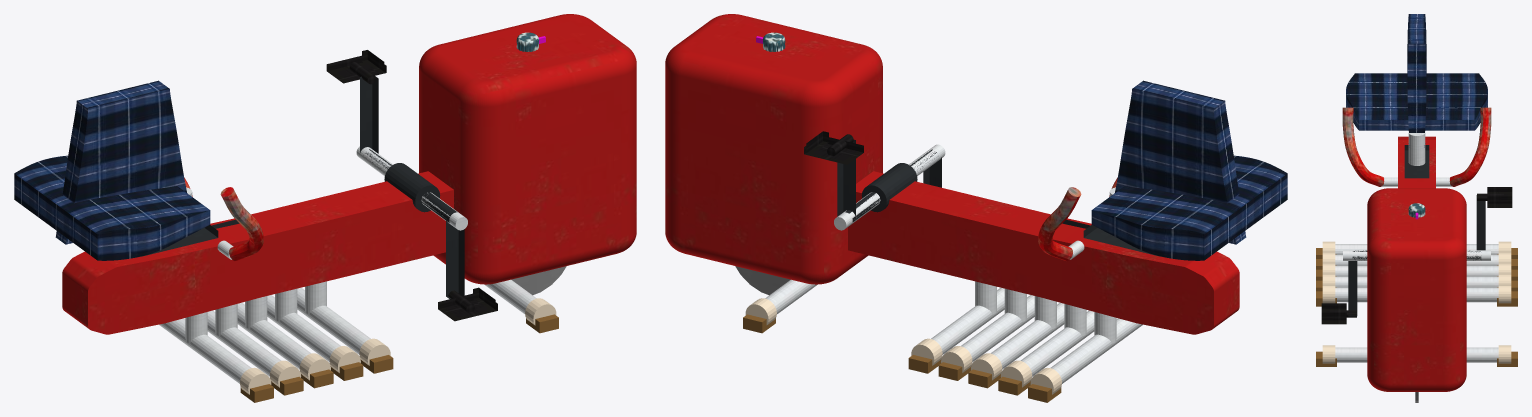
File: Sports_Exercise_bike__0062.glb
3 views of the same model, side by side, from view 1: azimuth 30°, elevation 25°; view 2: azimuth 150°, elevation 25°; view 3: azimuth 270°, elevation 25° (orthographic). The views are drawn at different scales.
Parts seen in each view (by area): view 1: body::resistance_housing, body::body_beam, seat_carriage::backrest_pad, seat_carriage::bucket_seat, crank::crank_body, stabilizer_foot_5::stabilizer_tube, stabilizer_foot_4::stabilizer_tube, stabilizer_foot_2::stabilizer_tube, stabilizer_foot_1::stabilizer_tube, stabilizer_foot_3::stabilizer_tube, side_grip_1::grip_bar_1, left_pedal::pedal_tread (+11 smaller); view 2: body::resistance_housing, body::body_beam, seat_carriage::backrest_pad, seat_carriage::bucket_seat, crank::crank_body, stabilizer_foot_5::stabilizer_tube, stabilizer_foot_4::stabilizer_tube, stabilizer_foot_2::stabilizer_tube, stabilizer_foot_1::stabilizer_tube, stabilizer_foot_3::stabilizer_tube, side_grip_0::grip_bar_0, left_pedal::pedal_tread (+10 smaller); view 3: body::resistance_housing, seat_carriage::bucket_seat, seat_carriage::backrest_pad, crank::crank_body, body::body_beam, side_grip_0::grip_bar_0, side_grip_1::grip_bar_1, stabilizer_foot_0::stabilizer_tube, stabilizer_foot_1::stabilizer_tube, stabilizer_foot_2::stabilizer_tube, right_pedal::pedal_tread, stabilizer_foot_3::stabilizer_tube (+11 smaller).
Part boxes in pixels (x1,y1,x2,y2): body::resistance_housing: (419, 14, 636, 284); body::body_beam: (62, 171, 453, 334); seat_carriage::backrest_pad: (55, 80, 186, 244); seat_carriage::bucket_seat: (14, 155, 210, 260); crank::crank_body: (360, 76, 464, 298); stabilizer_foot_5::stabilizer_tube: (159, 318, 251, 383); stabilizer_foot_4::stabilizer_tube: (207, 310, 281, 376); stabilizer_foot_2::stabilizer_tube: (267, 295, 340, 361); stabilizer_foot_1::stabilizer_tube: (297, 287, 370, 354); stabilizer_foot_3::stabilizer_tube: (237, 302, 310, 369); side_grip_1::grip_bar_1: (220, 187, 263, 260); left_pedal::pedal_tread: (326, 50, 386, 84); body::resistance_housing: (665, 14, 882, 284); body::body_beam: (848, 171, 1239, 334); seat_carriage::backrest_pad: (1115, 80, 1246, 244); seat_carriage::bucket_seat: (1091, 155, 1287, 260); crank::crank_body: (837, 139, 941, 221); stabilizer_foot_5::stabilizer_tube: (1050, 318, 1142, 383); stabilizer_foot_4::stabilizer_tube: (1020, 310, 1094, 376); stabilizer_foot_2::stabilizer_tube: (961, 295, 1034, 361); stabilizer_foot_1::stabilizer_tube: (931, 287, 1004, 354); stabilizer_foot_3::stabilizer_tube: (991, 302, 1064, 369); side_grip_0::grip_bar_0: (1038, 187, 1081, 260); left_pedal::pedal_tread: (804, 131, 863, 164); body::resistance_housing: (1367, 188, 1466, 391); seat_carriage::bucket_seat: (1346, 73, 1487, 130); seat_carriage::backrest_pad: (1407, 14, 1426, 147); crank::crank_body: (1348, 195, 1485, 316); body::body_beam: (1398, 136, 1435, 188); side_grip_0::grip_bar_0: (1449, 107, 1491, 186); side_grip_1::grip_bar_1: (1342, 107, 1384, 186); stabilizer_foot_0::stabilizer_tube: (1335, 347, 1498, 362); stabilizer_foot_1::stabilizer_tube: (1335, 287, 1498, 302); stabilizer_foot_2::stabilizer_tube: (1335, 276, 1498, 287); right_pedal::pedal_tread: (1321, 303, 1356, 324); stabilizer_foot_3::stabilizer_tube: (1335, 266, 1498, 276).
Bounding box in the file's own units: 1.16 × 0.595 × 0.4868.
Materials: 13 (11 with a texture image).
